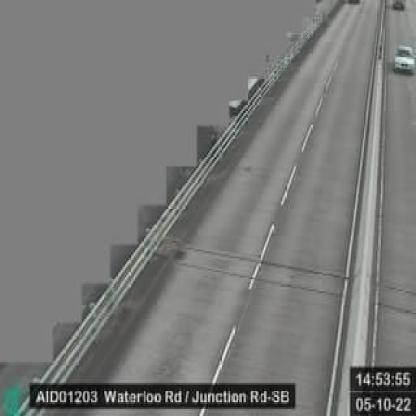Car: (395, 43, 412, 71)
